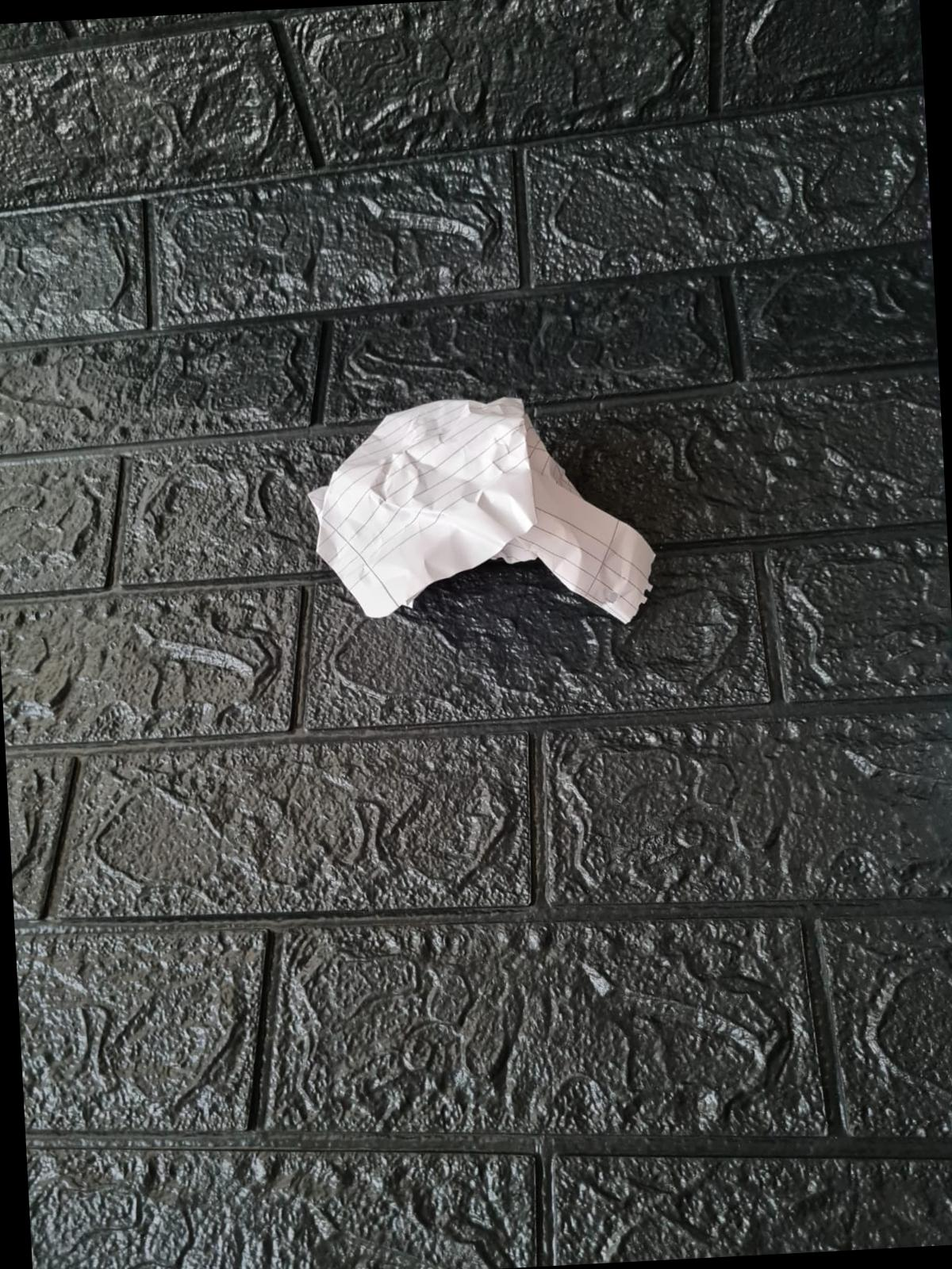Kertas: (292, 374, 668, 631)
